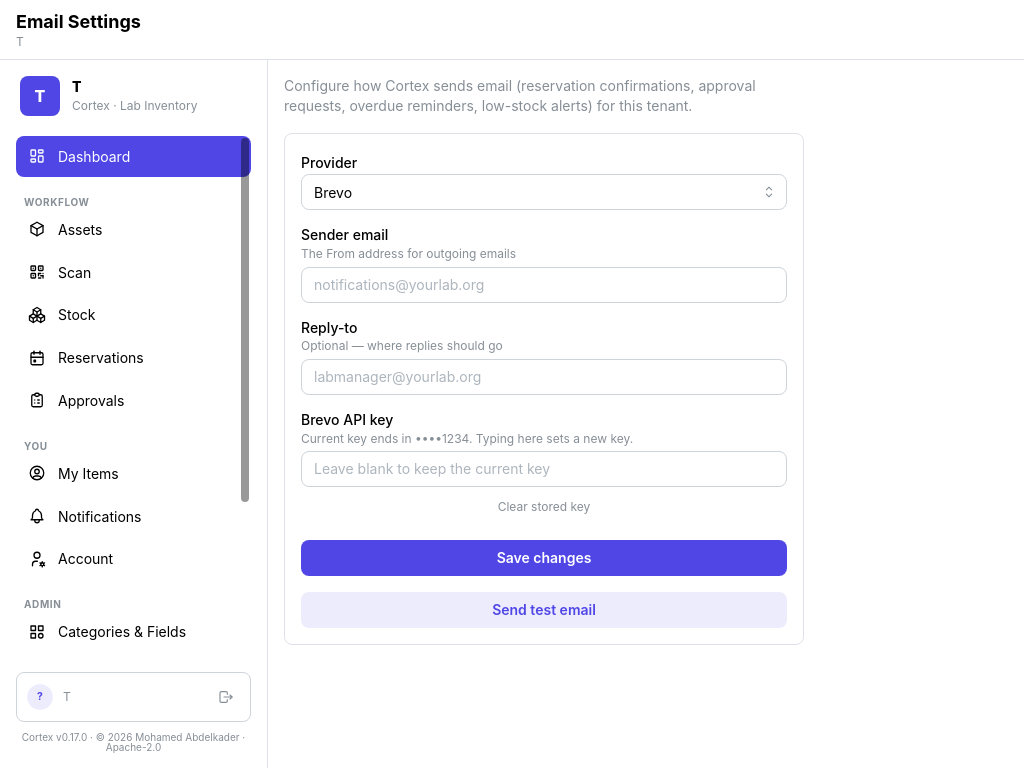
Scenario: EmailSettingsScreen › clicking the test-email button sends the test email and shows a success alert, without saving the form
Click the button with test id "email-settings-test-button": [544, 610] box [301, 592, 787, 628]
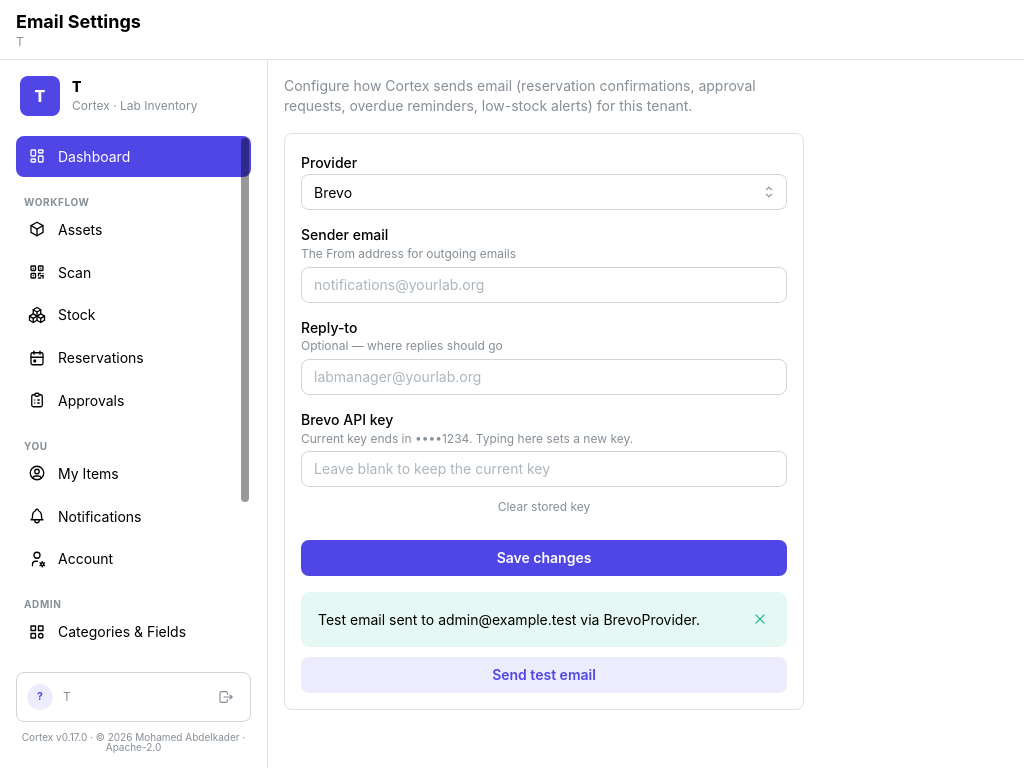
Now the message with test id "email-settings-test-success" reads "Test email sent to admin@example.test via BrevoProvider.", box [301, 592, 787, 648]
